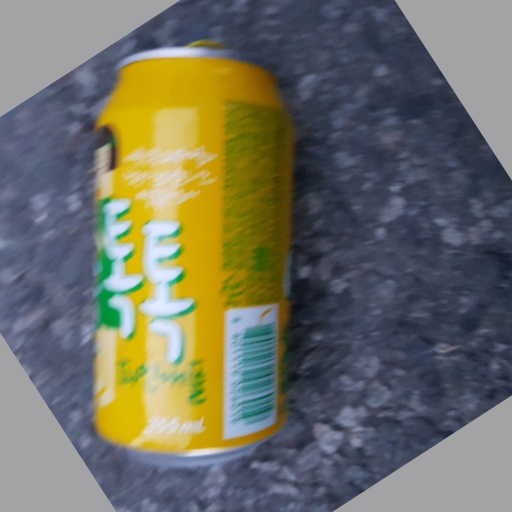Metal_0: (88, 40, 292, 477)
